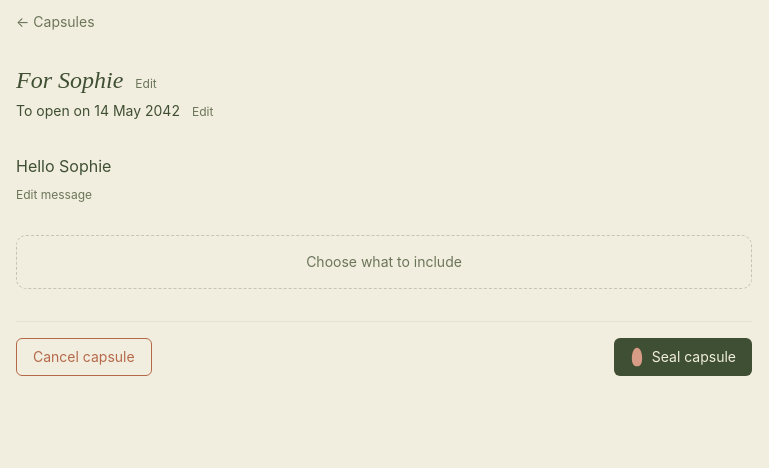
Test case: CapsuleDetailPage — inline edit recipients › enters recipient edit mode
This screenshot has width=769, height=468.
Check: the text "For Sophie" is shown, box [16,64,123,97]
Click the button "Edit" next to "For Sophie": (146, 84) [135,76,157,92]
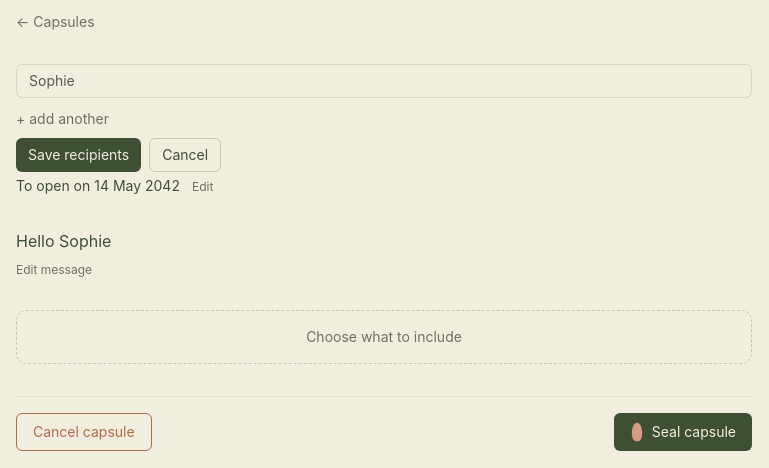
Check: the button "Save recipients" is shown, box [16,138,141,172]
